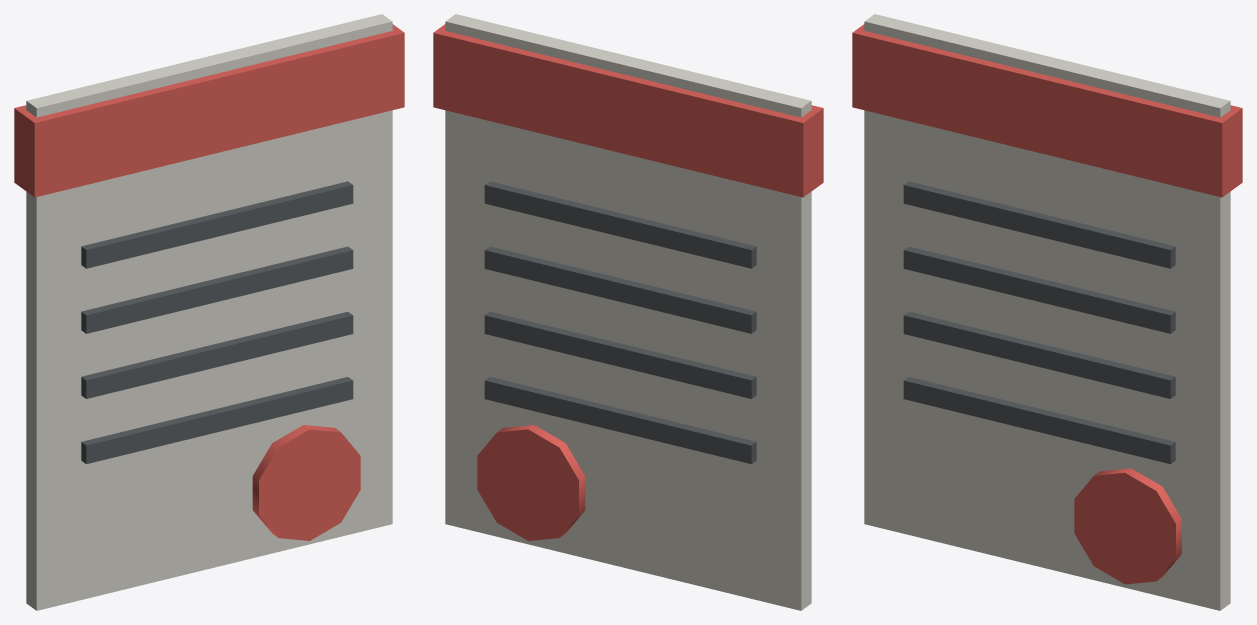
Rendered from item_order.glb.
3 renders of one model, left to right at view 1: azimuth 30°, elevation 25°; view 2: azimuth 150°, elevation 25°; view 3: azimuth 330°, elevation 25°, orthographic.
Parts seen in each view (by area): view 1: item_order; view 2: item_order; view 3: item_order.
Boxes of the visible parts, x1=… form: item_order: x1=14, y1=14, x2=404, y2=610; item_order: x1=433, y1=14, x2=823, y2=610; item_order: x1=852, y1=14, x2=1242, y2=610.
Size of the model in its own units: 0.208 by 0.27 by 0.022.
